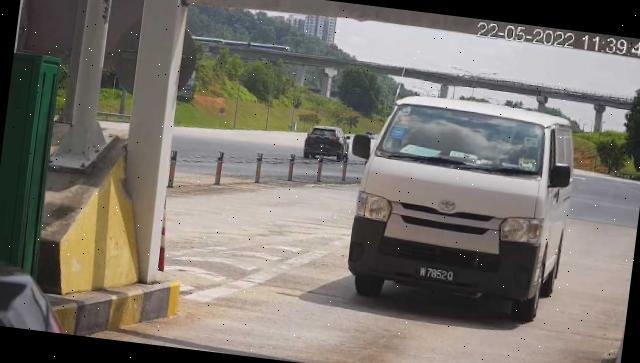License_Plate: (414, 262, 458, 287)
van: (343, 90, 579, 323)
